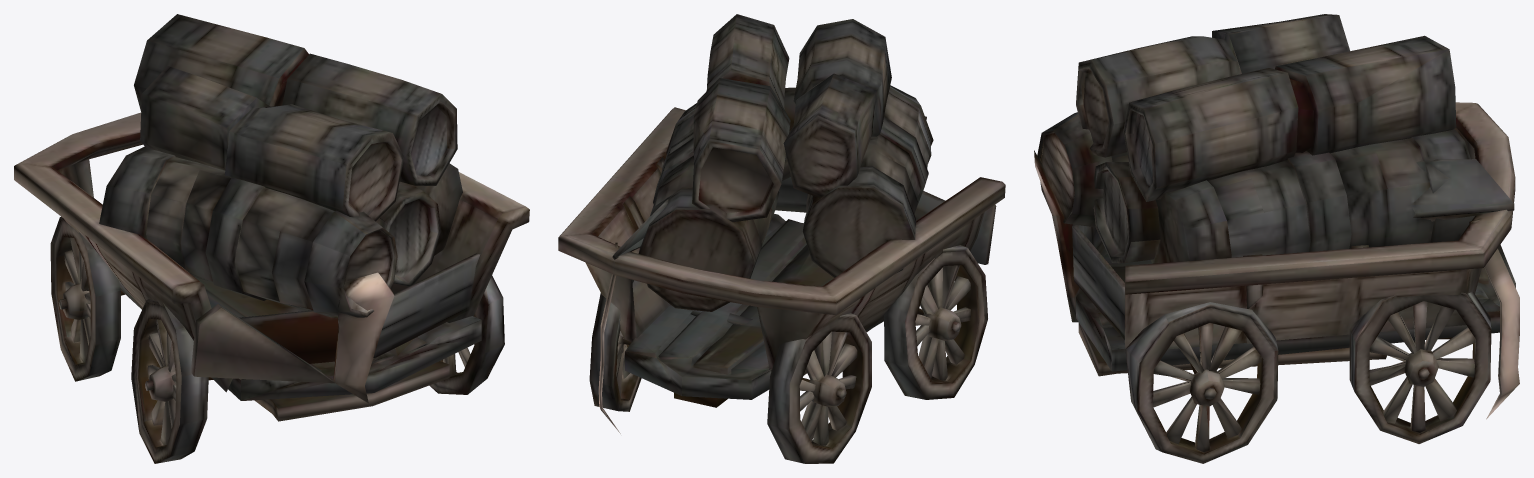
Rendered from cart_barrels.glb.
3 views of the same model, side by side, from view 1: azimuth 30°, elevation 25°; view 2: azimuth 150°, elevation 25°; view 3: azimuth 270°, elevation 25° (orthographic). The views are drawn at different scales.
Parts seen in each view (by area): view 1: model; view 2: model; view 3: model.
Boxes of the visible parts, x1,y1,x2,y2 form: model: [14, 14, 529, 463]; model: [558, 14, 1005, 463]; model: [1034, 14, 1519, 463].
Size of the model in its own units: 1.13 by 1 by 1.28.
1 material, 1 textured.
